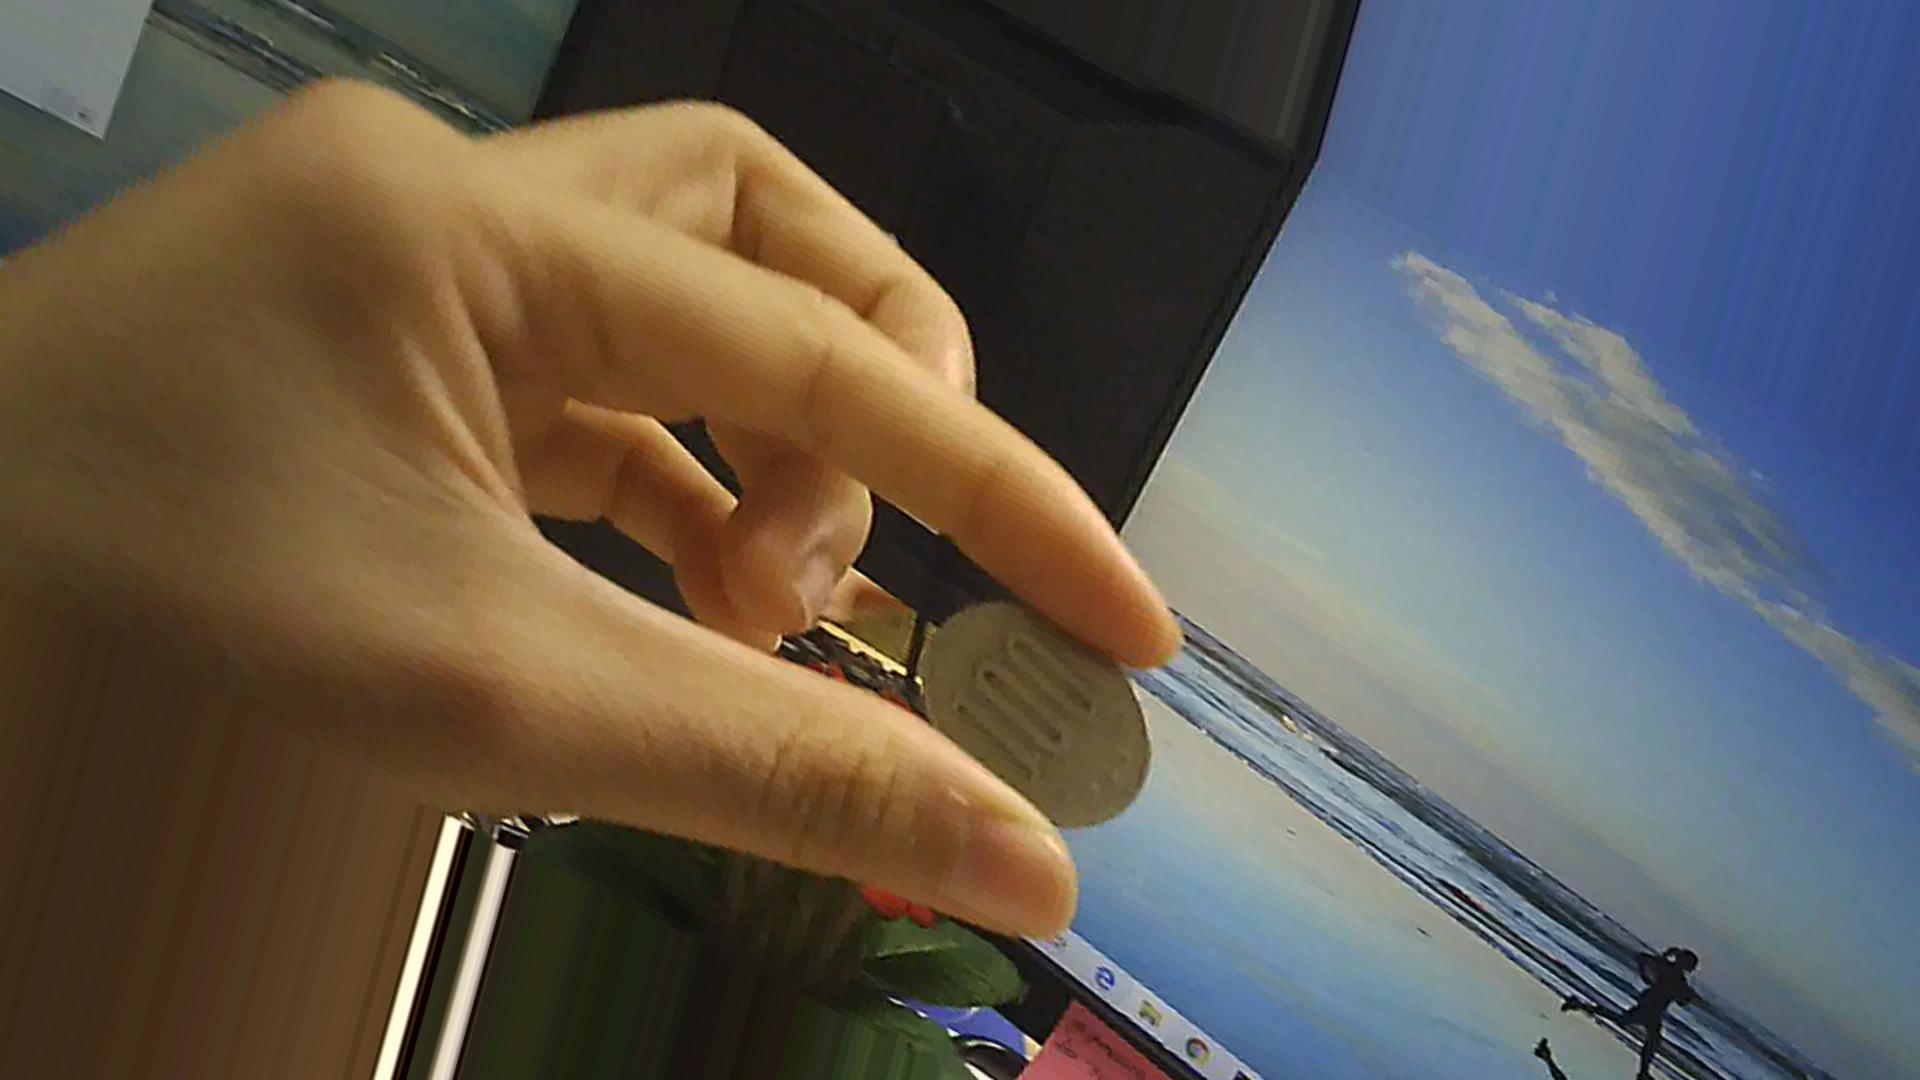100 Yen: (909, 579, 1178, 848)
